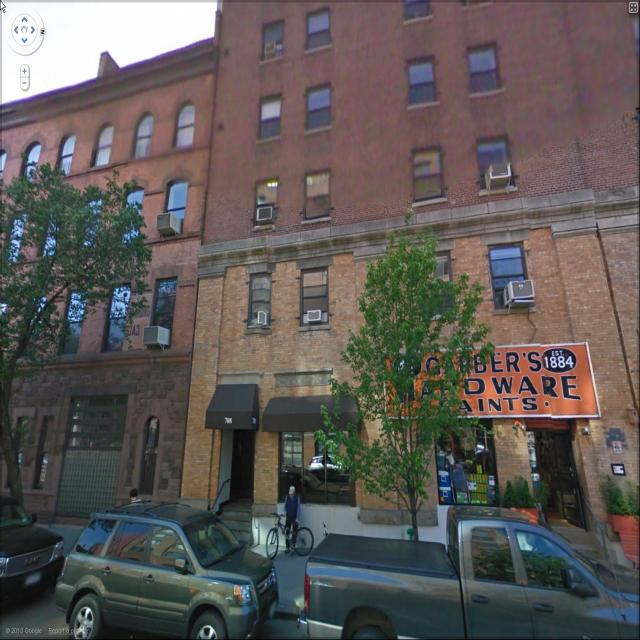b_2: (175, 1, 640, 538), (1, 23, 208, 510)
